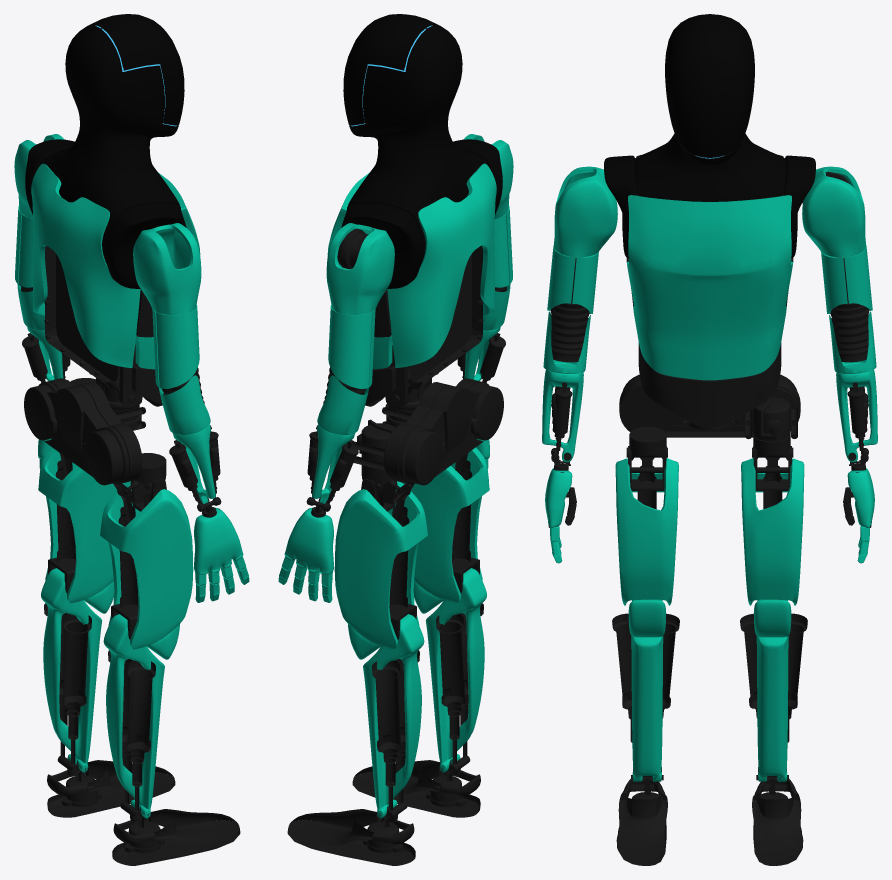
The model's file is motion-designer.glb.
3 renders of one model, left to right at view 1: azimuth 30°, elevation 25°; view 2: azimuth 150°, elevation 25°; view 3: azimuth 270°, elevation 25°, orthographic.
Parts seen in each view (by area): view 1: Cube.001; view 2: Cube.001; view 3: Cube.001.
Part boxes in pixels (x1,y1,x2,y2): Cube.001: (14, 14, 249, 865); Cube.001: (278, 14, 513, 865); Cube.001: (542, 14, 877, 865).
Size of the model in its own units: 0.3406 by 1.7 by 0.6396.
